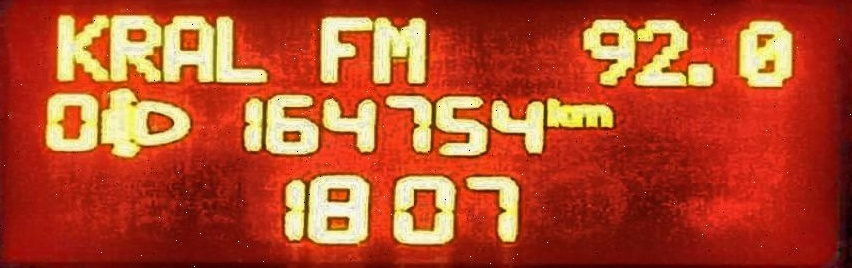-: (686, 56, 713, 91)
0: (732, 12, 793, 96), (389, 170, 456, 244), (41, 89, 97, 154)
1: (276, 173, 306, 248), (239, 91, 264, 162)
2: (636, 13, 687, 89)
4: (319, 93, 381, 154), (489, 94, 543, 157)
5: (435, 93, 486, 155)
6: (265, 92, 318, 156)
7: (466, 171, 527, 244), (383, 90, 433, 154)
8: (308, 171, 373, 251)
9: (580, 11, 633, 89)
X: (372, 13, 434, 86), (317, 11, 371, 84), (216, 13, 271, 84), (110, 11, 163, 84), (54, 11, 106, 84), (165, 11, 215, 84), (572, 100, 614, 129), (544, 94, 571, 131)
